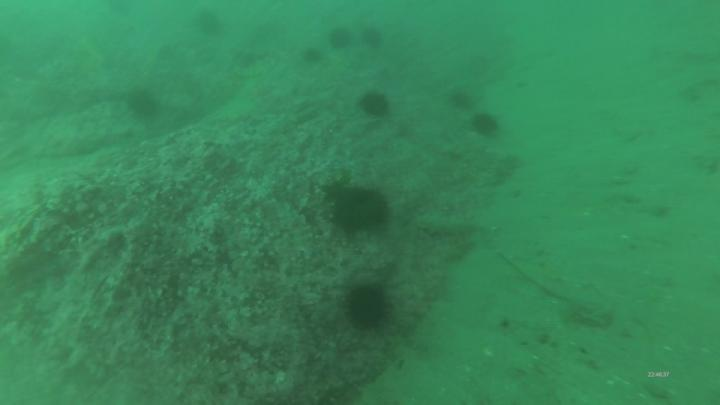echinus: (328, 180, 397, 238), (344, 278, 394, 334), (120, 85, 164, 122), (358, 87, 393, 124), (193, 10, 227, 41), (469, 110, 502, 140), (450, 89, 481, 116), (328, 25, 356, 53), (359, 26, 384, 54), (303, 43, 325, 66)
holothurian: (230, 52, 279, 83)
